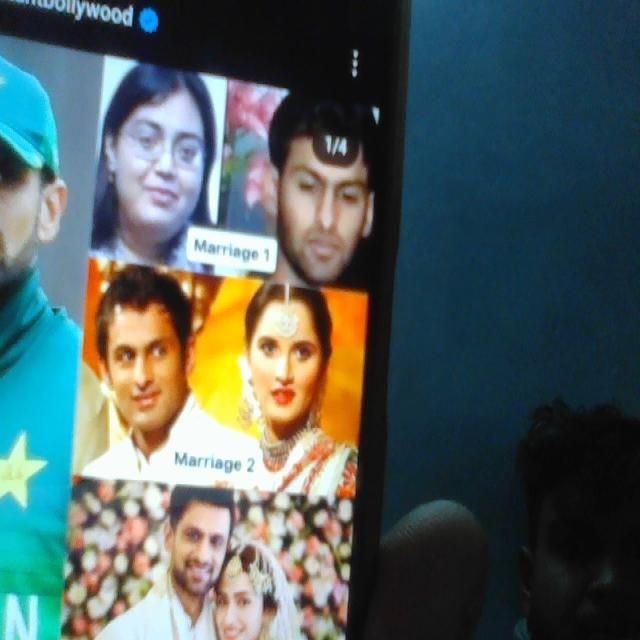fake: (268, 67, 386, 290), (100, 44, 209, 249), (94, 257, 192, 443)
